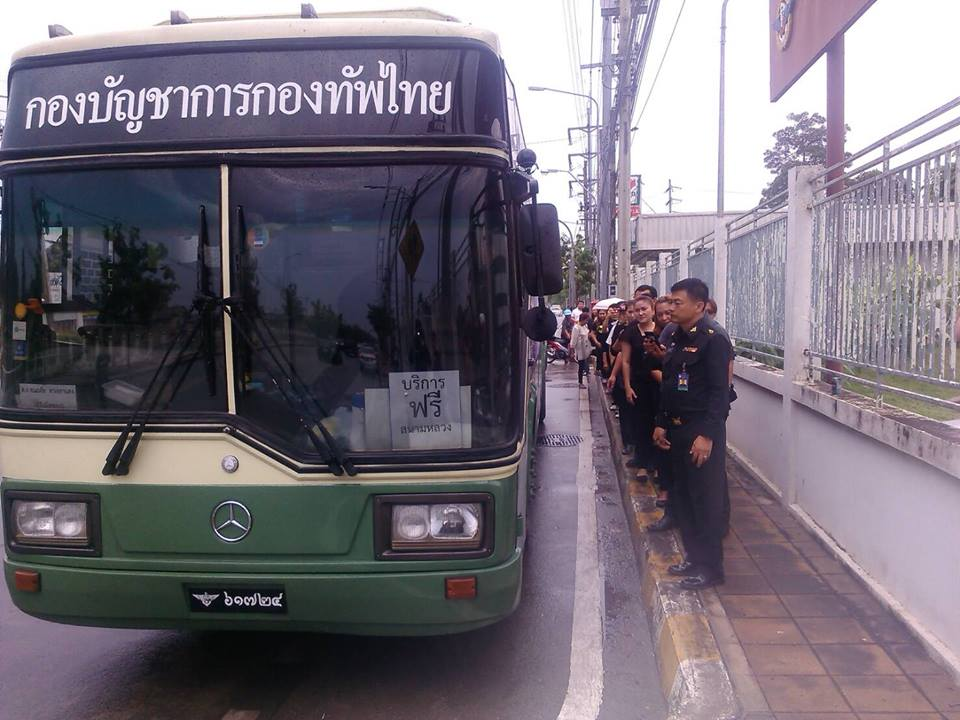bus: (4, 11, 549, 640)
